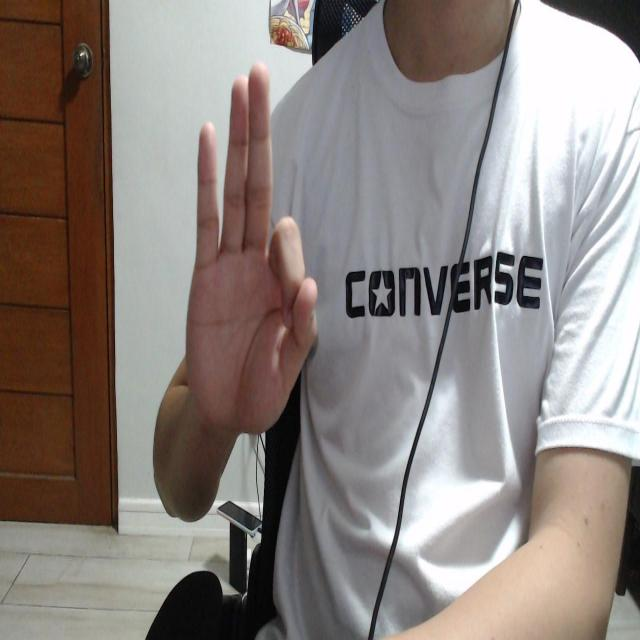F: (185, 63, 319, 435)
